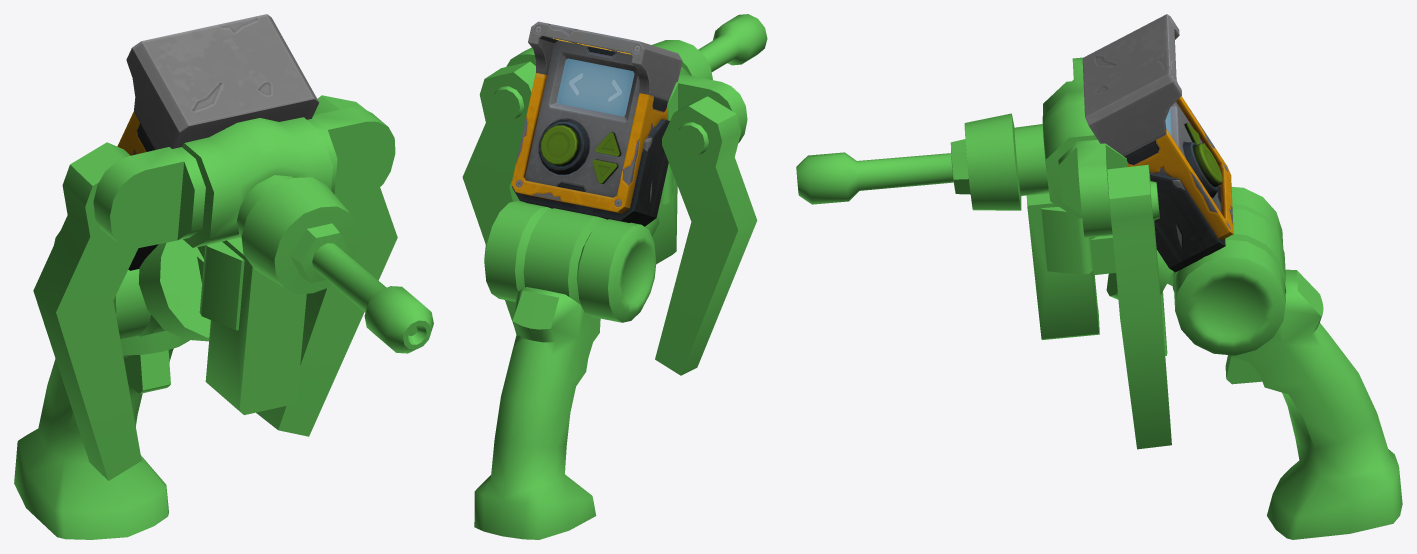
File: Fant_Block_Editor.fbx
3 renders of one model, left to right at view 1: azimuth 30°, elevation 25°; view 2: azimuth 150°, elevation 25°; view 3: azimuth 270°, elevation 25°, orthographic. The views are drawn at different scales.
Visible parts, largest first — view 1: char_connecttool_geoMesh; view 2: char_connecttool_geoMesh; view 3: char_connecttool_geoMesh.
Boxes of the visible parts, x1,y1,x2,y2 form: char_connecttool_geoMesh: (14, 14, 433, 539); char_connecttool_geoMesh: (462, 14, 767, 539); char_connecttool_geoMesh: (796, 14, 1402, 539).
Size of the model in its own units: 97.9 by 168 by 148.
